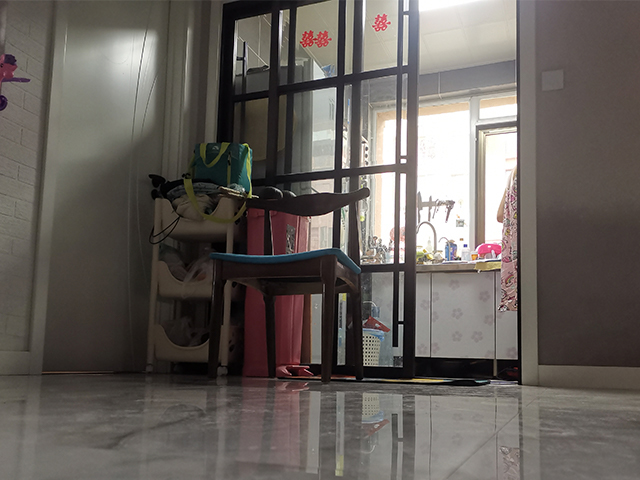cabinet: (366, 261, 519, 378)
carpet: (280, 375, 492, 386)
stool: (204, 186, 372, 385)
trashcan: (363, 326, 385, 367)
